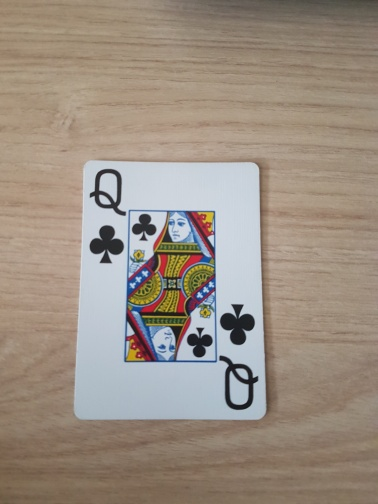queen: (75, 160, 266, 422)
